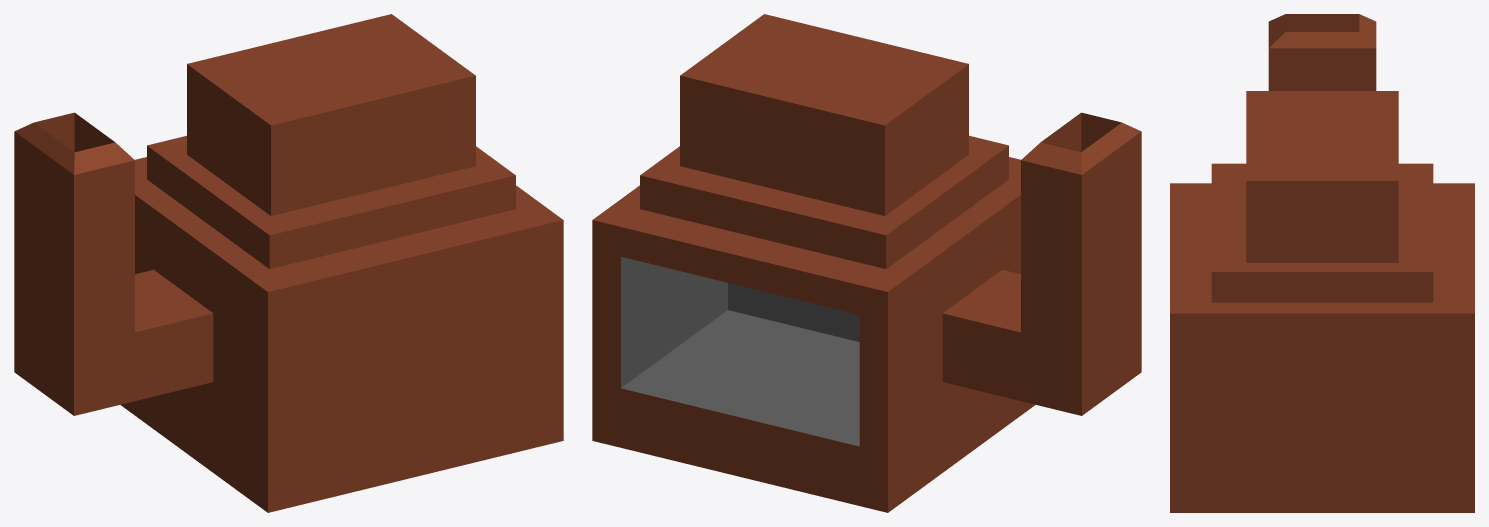
Rendered from Incinator.fbx.
3 views of the same model, side by side, from view 1: azimuth 30°, elevation 25°; view 2: azimuth 150°, elevation 25°; view 3: azimuth 270°, elevation 25° (orthographic). The views are drawn at different scales.
Parts seen in each view (by area): view 1: Plane; view 2: Plane; view 3: Plane.
Boxes of the visible parts, bbox=[...] form: Plane: bbox=[14, 14, 563, 512]; Plane: bbox=[592, 14, 1141, 512]; Plane: bbox=[1170, 14, 1474, 512].
Bounding box in the file's own units: 481 × 365 × 323.
